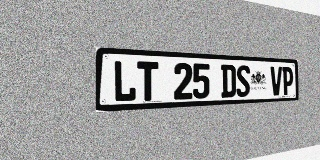2: (174, 63, 192, 100)
5: (193, 63, 210, 99)
D: (221, 64, 236, 98)
L: (113, 60, 136, 102)
P: (282, 67, 293, 95)
S: (236, 65, 250, 97)
T: (137, 61, 158, 101)
V: (270, 66, 282, 96)
